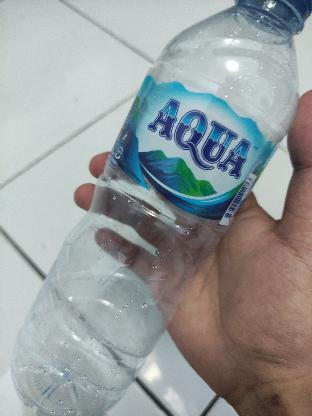Plastic Bottle: (10, 0, 312, 416)
